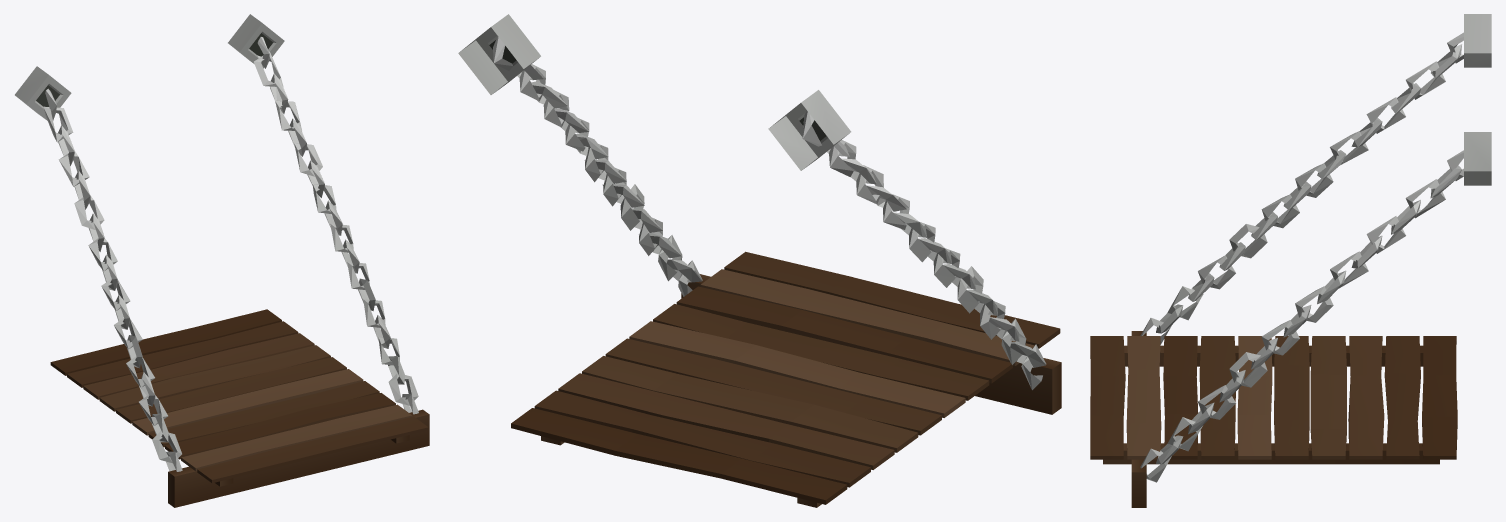
3 renders of one model, left to right at view 1: azimuth 30°, elevation 25°; view 2: azimuth 150°, elevation 25°; view 3: azimuth 270°, elevation 25°, orthographic. The views are drawn at different scales.
Parts seen in each view (by area): view 1: WoodBridge_0; view 2: WoodBridge_0; view 3: WoodBridge_0.
Part boxes in pixels (x1=…): WoodBridge_0: x1=15, y1=14, x2=429, y2=507; WoodBridge_0: x1=458, y1=14, x2=1061, y2=507; WoodBridge_0: x1=1090, y1=14, x2=1491, y2=507.
Size of the model in its own units: 10.87 by 12.85 by 12.83.
Materials: 1 (1 with a texture image).
